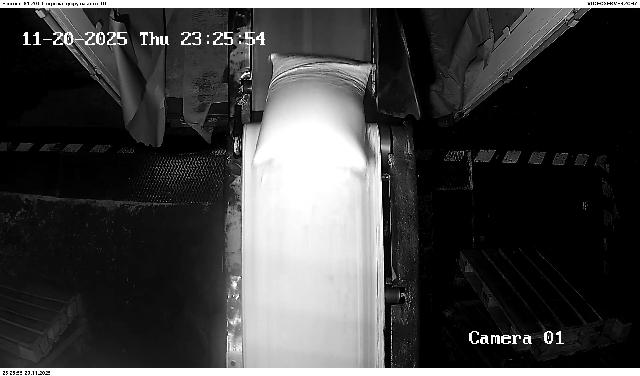bag: (252, 53, 376, 184)
